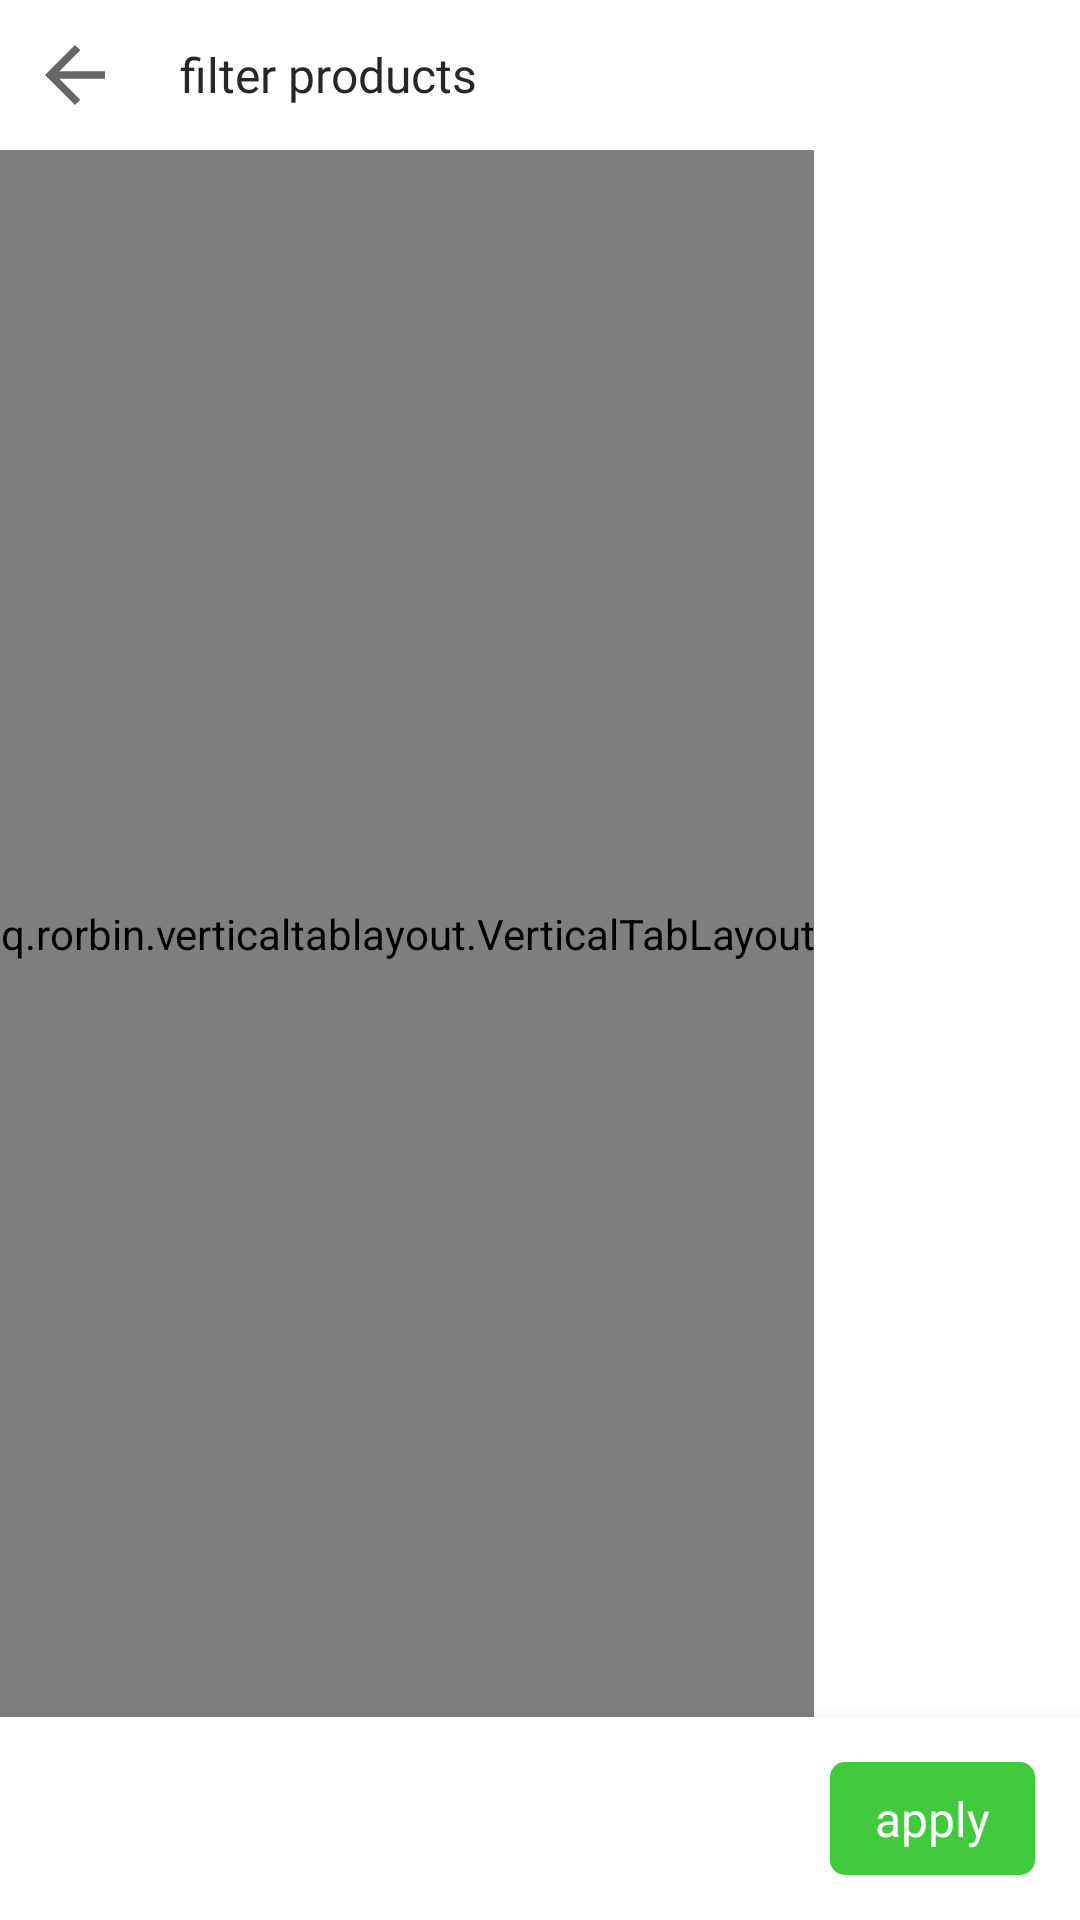

Named icons in this screenshot (1080 × 1920) and their bounding boxes, (x1, y1, x2, y2):
back: (45, 45, 105, 105)
